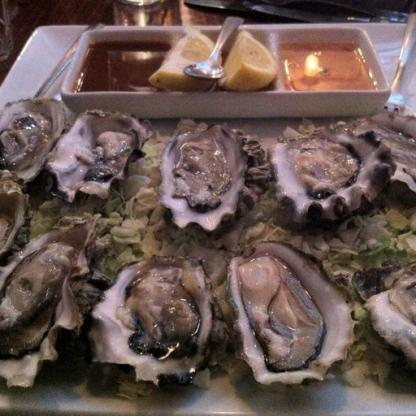oyster: (232, 243, 354, 387), (0, 216, 95, 381), (99, 260, 208, 380), (271, 120, 382, 216), (160, 119, 242, 235), (53, 110, 144, 200)
